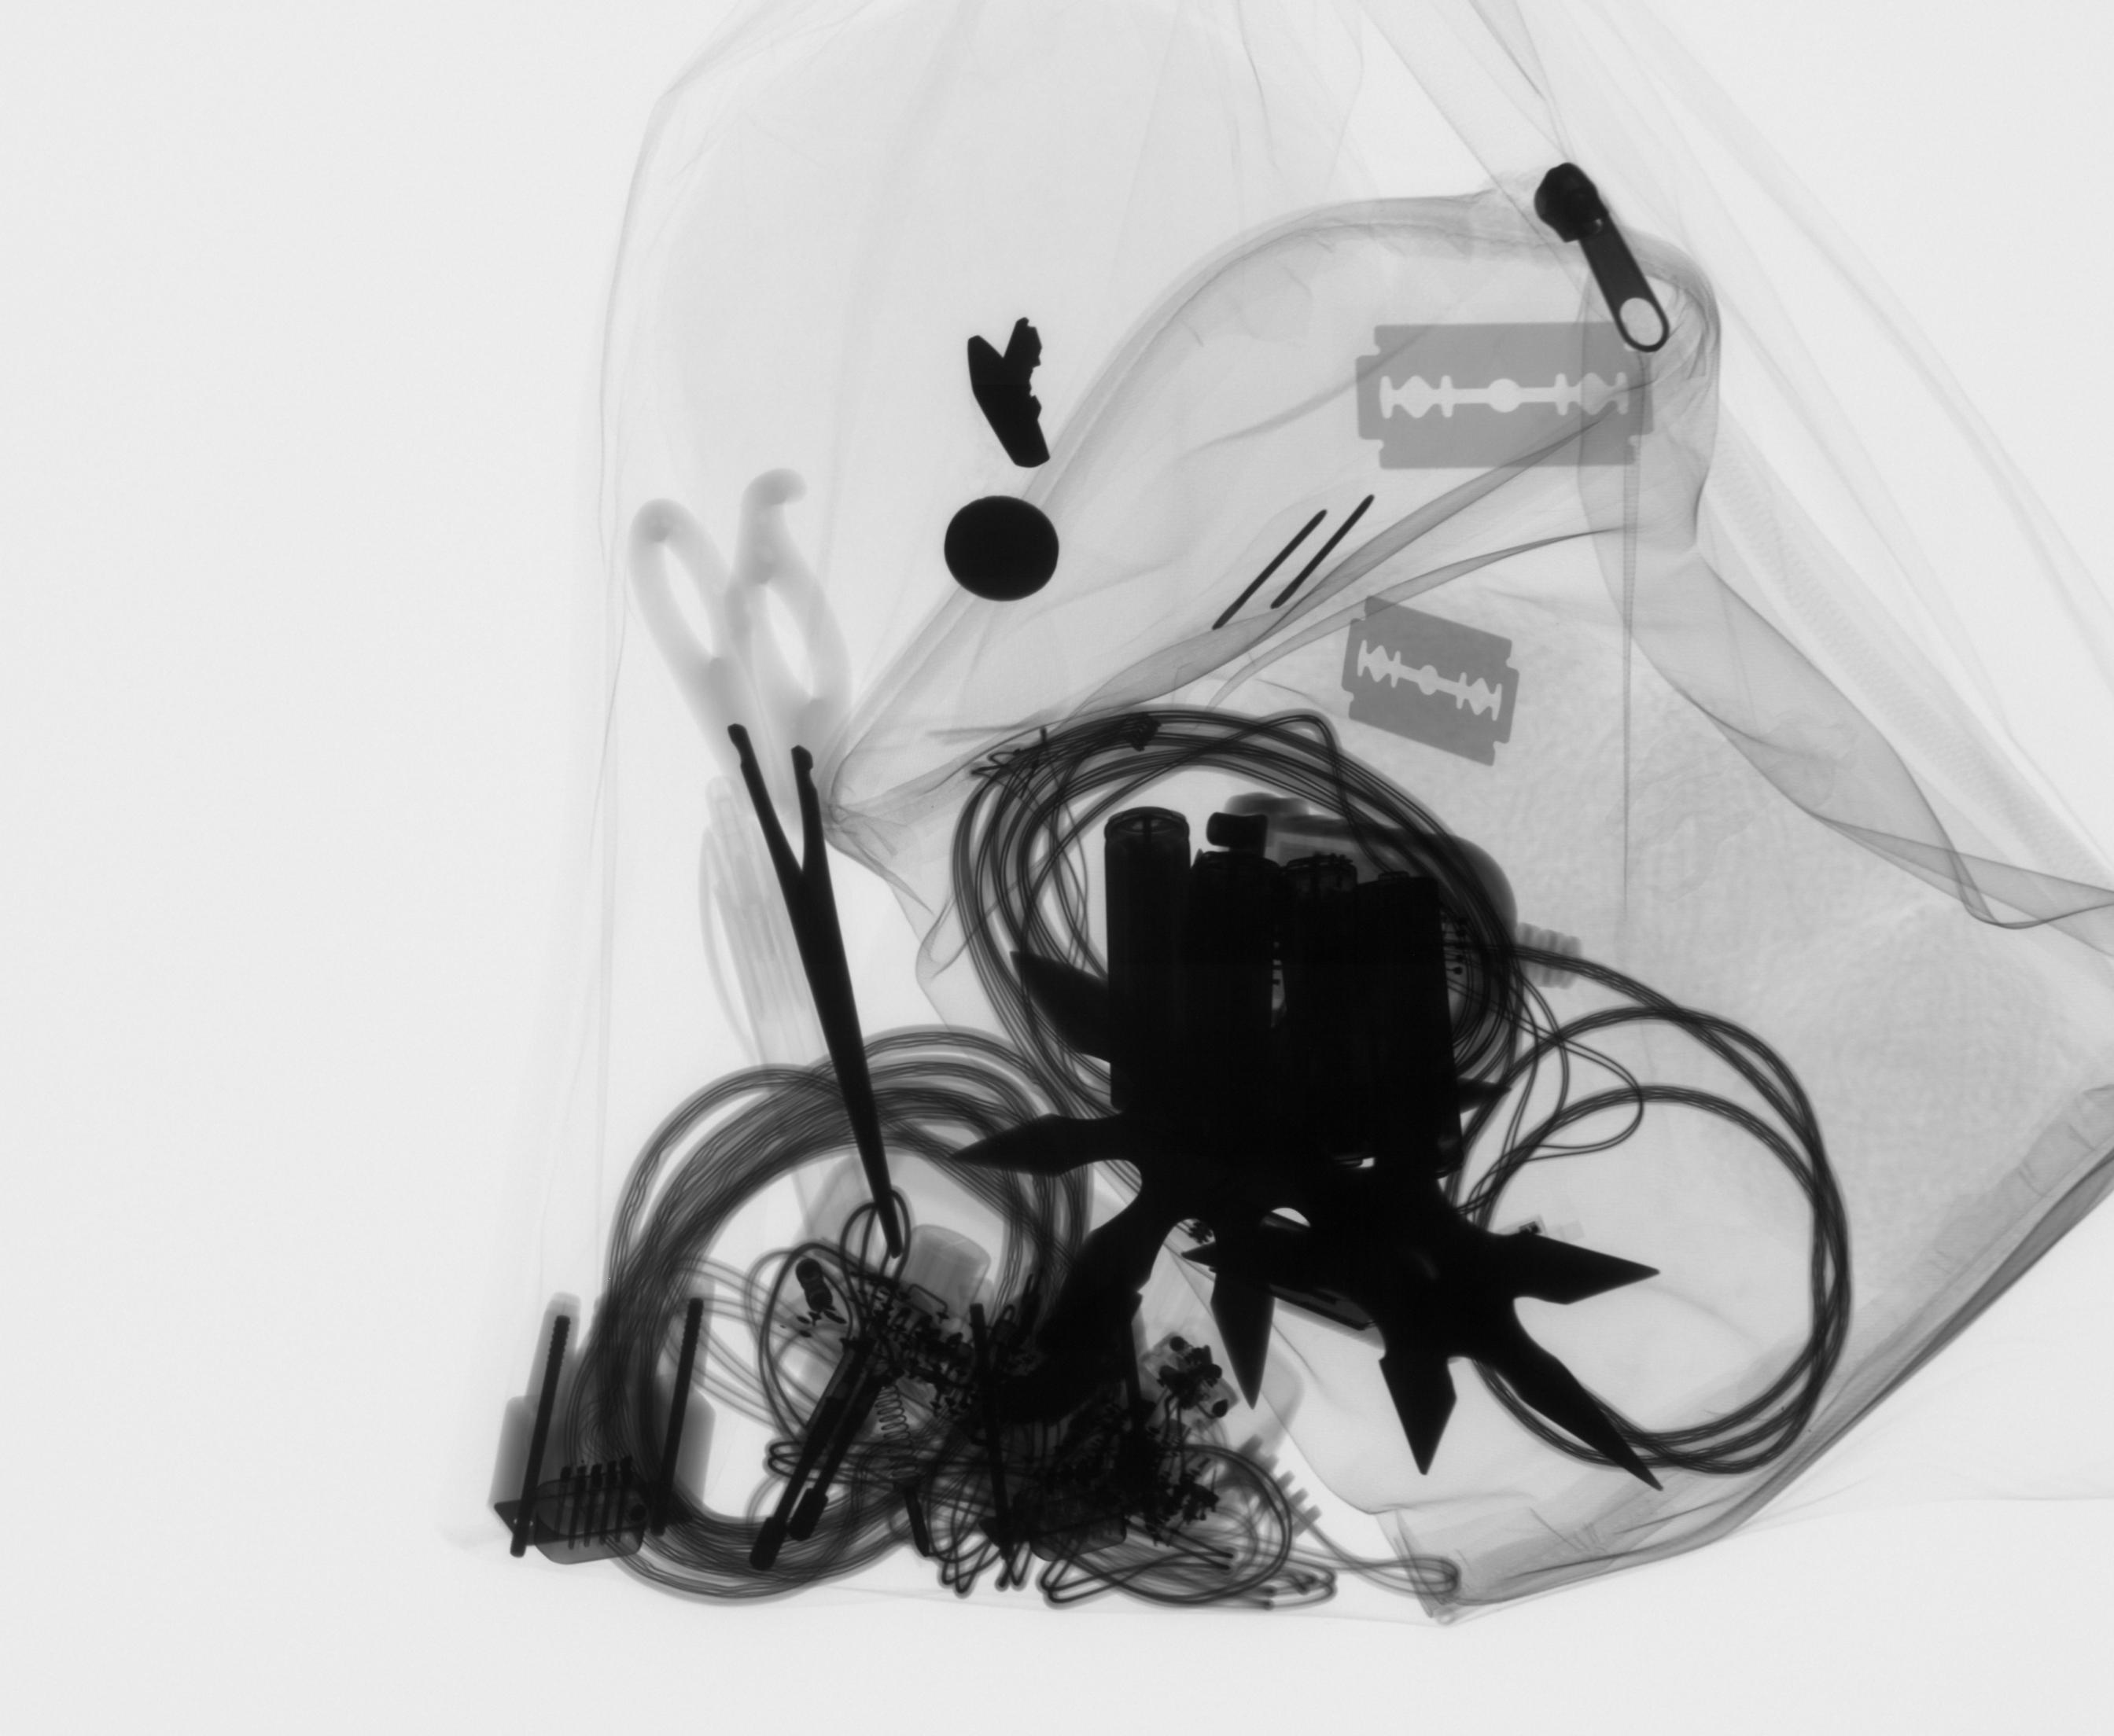RazorBlade: (1329, 307, 1679, 495), (1319, 586, 1540, 774)
